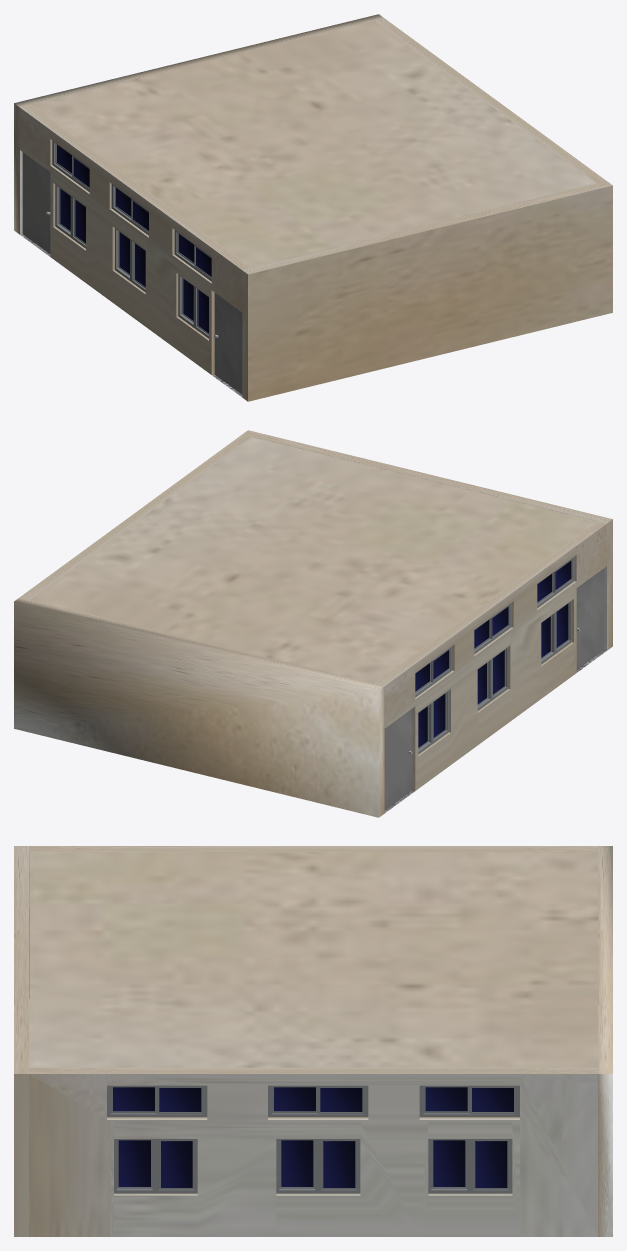
The picture shows the model from 3 angles, top to bottom: view 1: azimuth 30°, elevation 25°; view 2: azimuth 150°, elevation 25°; view 3: azimuth 270°, elevation 25°; orthographic projection. The views are drawn at different scales.
Visible parts, largest first — view 1: 屋頂, 牆002.007, 牆003.007, 牆001.007, 門.016, 門.004, 牆004.007, 窗戶001.007, 窗戶003.007, 窗戶002.007, 氣窗001.007, 氣窗002.007 (+1 smaller); view 2: 屋頂, 牆001.007, 牆003.007, 牆002.007, 門.004, 門.016, 牆004.007, 窗戶002.007, 窗戶001.007, 窗戶003.007, 氣窗002.007, 氣窗003.007 (+1 smaller); view 3: 屋頂, 牆004.007, 牆001.007, 牆002.007, 窗戶004.007, 窗戶005.007, 窗戶006.007, 牆003.007, 氣窗004.007, 氣窗005.007, 氣窗006.007.
Boxes of the visible parts, x1,y1,x2,y2 form: 屋頂: (30, 21, 596, 267); 牆002.007: (242, 181, 612, 401); 牆003.007: (20, 105, 251, 374); 牆001.007: (14, 14, 384, 234); 門.016: (22, 152, 50, 253); 門.004: (214, 293, 242, 394); 牆004.007: (375, 18, 606, 183); 窗戶001.007: (178, 274, 208, 338); 窗戶003.007: (55, 184, 85, 248); 窗戶002.007: (115, 228, 145, 292); 氣窗001.007: (174, 230, 211, 281); 氣窗002.007: (111, 184, 148, 235); 屋頂: (30, 437, 596, 683); 牆001.007: (14, 597, 384, 817); 牆003.007: (375, 521, 606, 790); 牆002.007: (242, 430, 612, 650); 門.004: (576, 568, 604, 669); 門.016: (384, 709, 412, 810); 牆004.007: (20, 434, 251, 599); 窗戶002.007: (477, 647, 508, 710); 窗戶001.007: (541, 600, 571, 664); 窗戶003.007: (418, 690, 448, 754); 氣窗002.007: (474, 603, 511, 653); 氣窗003.007: (415, 646, 452, 697); 屋頂: (29, 852, 597, 1067); 牆004.007: (29, 1067, 597, 1236); 牆001.007: (598, 846, 612, 1236); 牆002.007: (14, 846, 28, 1236); 窗戶004.007: (428, 1139, 512, 1193); 窗戶005.007: (276, 1139, 360, 1193); 窗戶006.007: (114, 1139, 197, 1193); 牆003.007: (29, 846, 597, 906); 氣窗004.007: (107, 1085, 207, 1117); 氣窗005.007: (268, 1085, 368, 1117); 氣窗006.007: (419, 1085, 519, 1117).
Size of the model in its own units: 901 by 300 by 1000.
